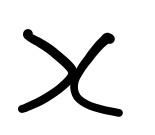mult: (18, 29, 123, 117)
